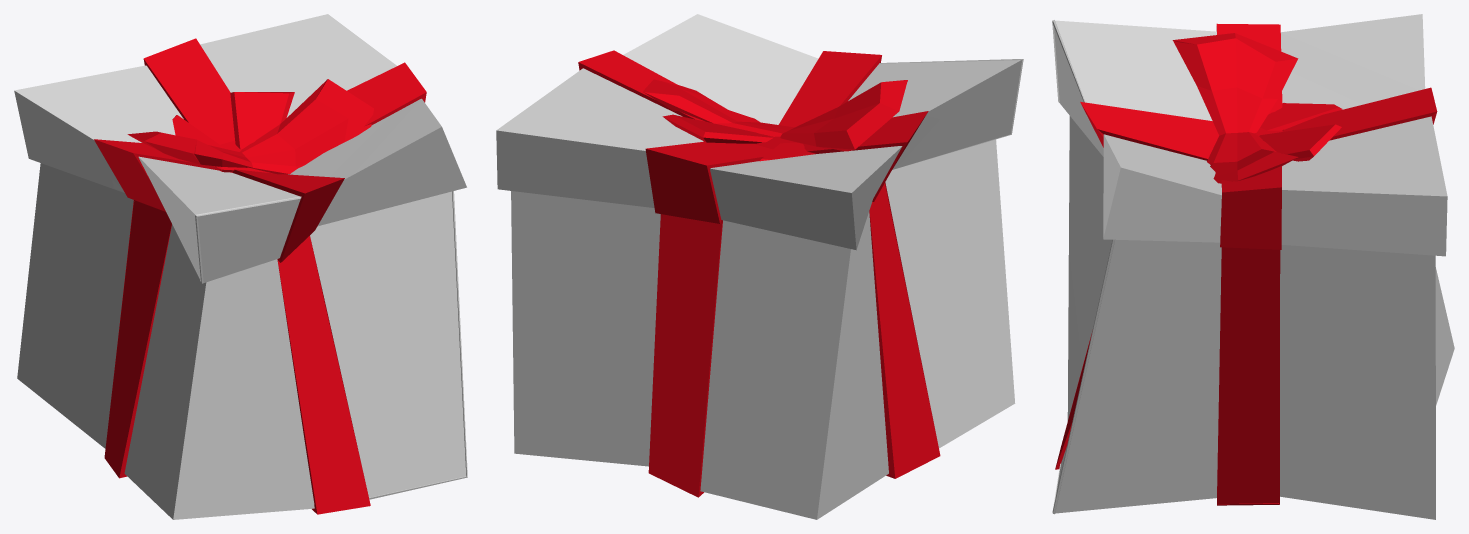
Rendered from PresentShattered.fbx.
3 views of the same model, side by side, from view 1: azimuth 30°, elevation 25°; view 2: azimuth 150°, elevation 25°; view 3: azimuth 270°, elevation 25° (orthographic). The views are drawn at different scales.
Visible parts, largest first — view 1: PresentState4.004, PresentState4.002, PresentState4.005, PresentState4.001; view 2: PresentState4.001, PresentState4.005, PresentState4.003, PresentState4.004, PresentState4.002; view 3: PresentState4.003, PresentState4.002, PresentState4.001, PresentState4.005, PresentState4.004.
Part boxes in pixels (bbox=[...]): PresentState4.004: bbox=[104, 191, 466, 519]; PresentState4.002: bbox=[193, 14, 466, 283]; PresentState4.005: bbox=[14, 38, 325, 283]; PresentState4.001: bbox=[17, 163, 467, 499]; PresentState4.001: bbox=[648, 211, 894, 519]; PresentState4.005: bbox=[644, 59, 1022, 250]; PresentState4.003: bbox=[511, 191, 662, 466]; PresentState4.004: bbox=[869, 139, 1015, 478]; PresentState4.002: bbox=[496, 14, 1023, 207]; PresentState4.003: bbox=[1217, 245, 1435, 519]; PresentState4.002: bbox=[1053, 20, 1447, 256]; PresentState4.001: bbox=[1052, 239, 1454, 513]; PresentState4.005: bbox=[1052, 14, 1437, 164]; PresentState4.004: bbox=[1053, 116, 1114, 514].
Size of the model in its own units: 207 by 211 by 207.
